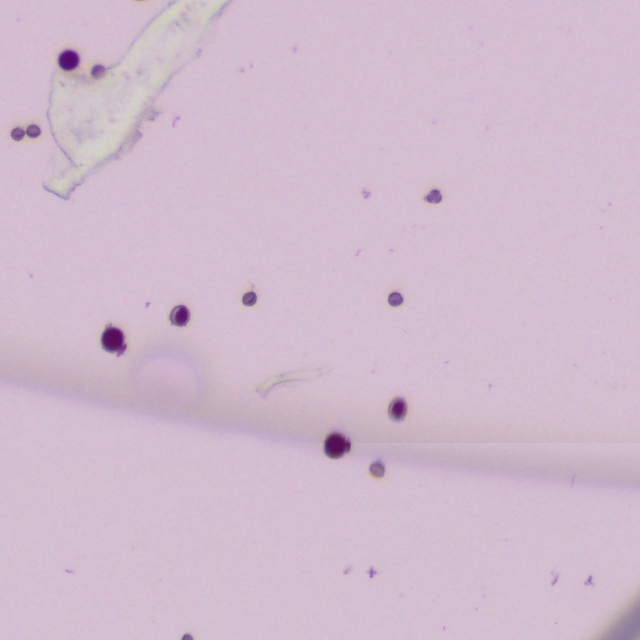intermediate: (170, 305, 189, 325), (389, 398, 406, 419), (91, 64, 105, 77)
non_viable: (369, 460, 384, 477), (424, 189, 441, 203), (388, 292, 403, 306), (25, 124, 40, 138), (242, 291, 256, 305), (10, 127, 25, 140)
viable: (324, 433, 350, 457), (101, 327, 125, 352), (58, 50, 78, 70)
